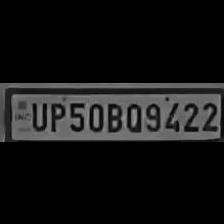0: (86, 99, 104, 131)
2: (198, 97, 218, 130), (180, 99, 198, 131)
4: (162, 97, 180, 130)
5: (65, 97, 85, 130)
9: (142, 99, 160, 131)
B: (105, 98, 123, 132)
P: (46, 98, 64, 132)
Q: (122, 98, 142, 132)
U: (27, 98, 47, 130)
